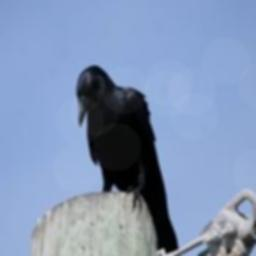Crow: (74, 63, 178, 256)
